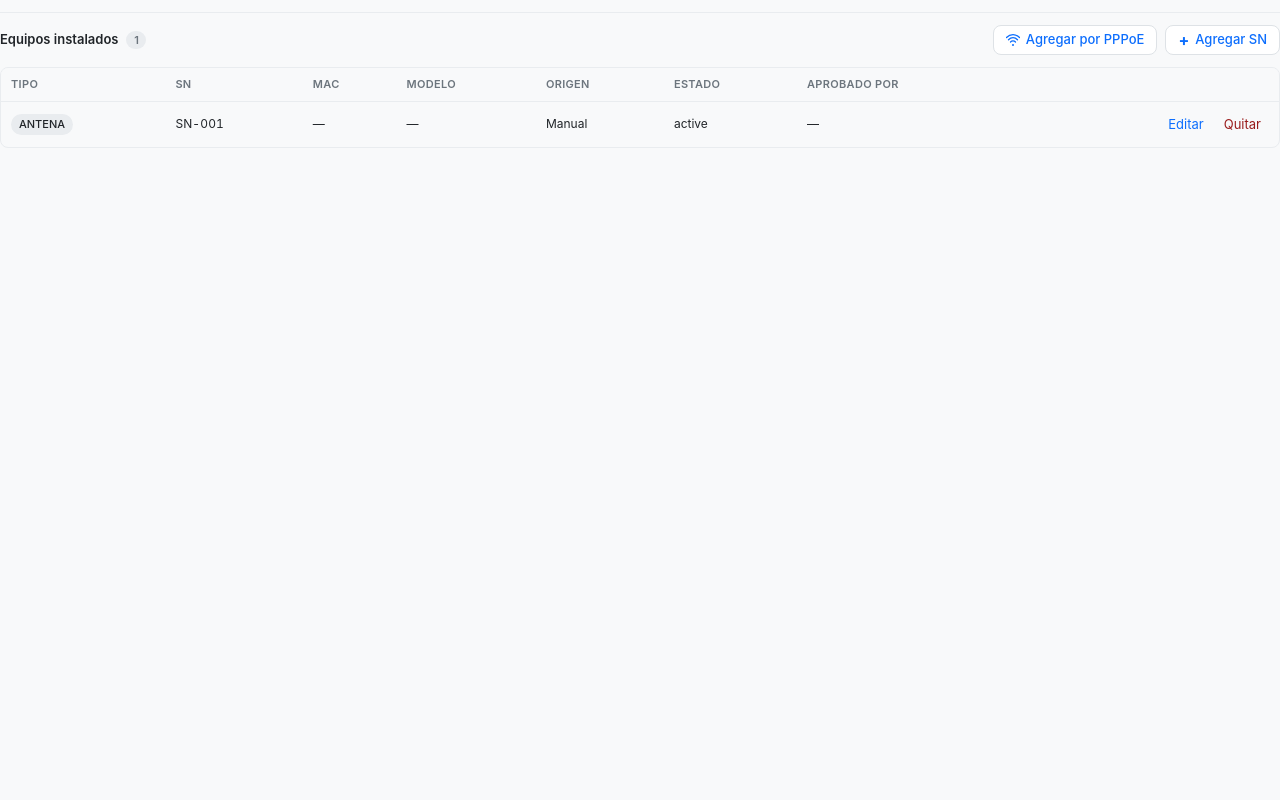
Test: ServiceInventorySection — Quitar (retire flow) › keeps the modal open with a clear message on 409 ASSET_NOT_INSTALLED
The width and height of the screenshot is (1280, 800).
Click the button "Quitar". click: x=1242, y=124
box: [1216,110,1269,138]
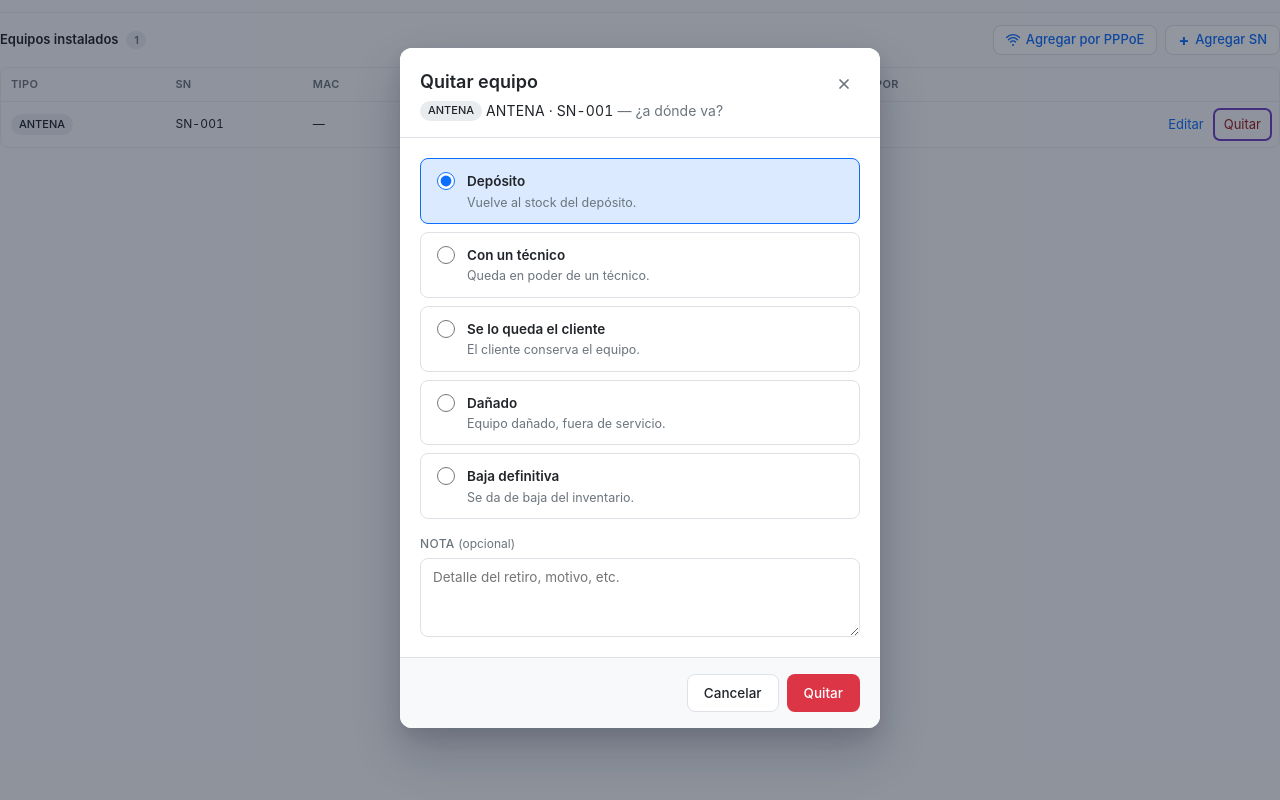
Click the button "Quitar". click: x=823, y=693
box: [786,674,860,712]
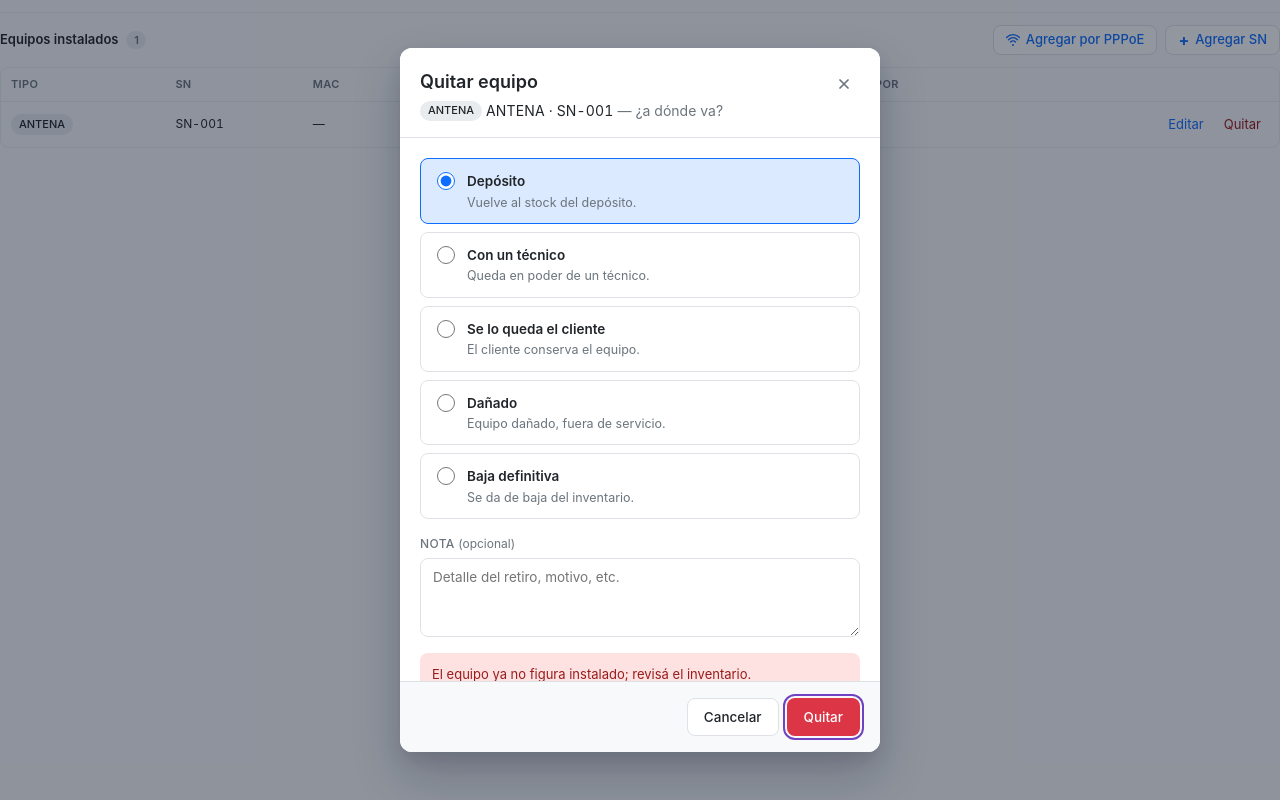
Check: the dialog is shown
Check: the text "El equipo ya no figura instalado; revisá el inventario." is shown, box [420,653,860,681]
